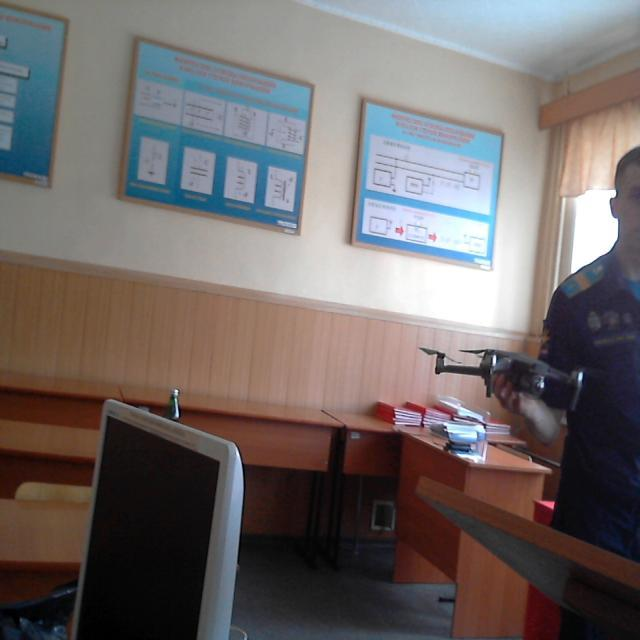drones: (412, 325, 603, 425)
